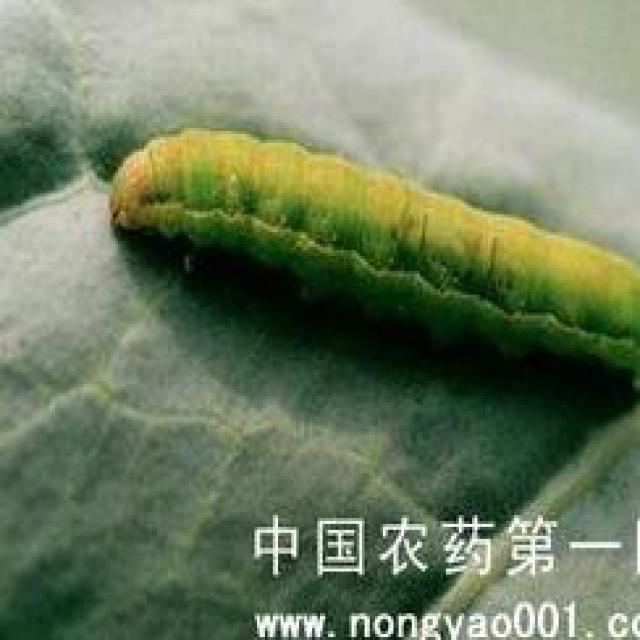BeetArmyWorm-Larva-: (101, 115, 637, 387)
